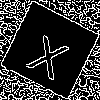X: (25, 25, 75, 82)
